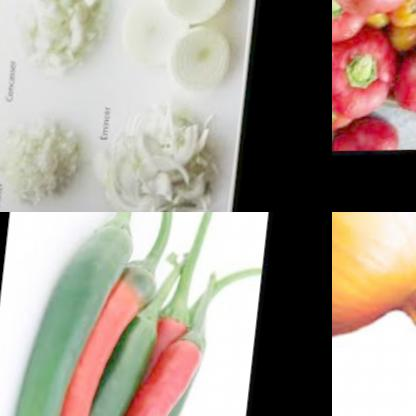bell pepper: (332, 23, 404, 122), (332, 114, 413, 152), (332, 0, 373, 46), (395, 43, 416, 123), (332, 91, 361, 140)
hot pepper: (1, 212, 270, 416)
onion: (332, 212, 416, 393), (104, 101, 231, 212), (113, 0, 262, 92), (0, 100, 101, 212)
tomato: (389, 0, 416, 55)
